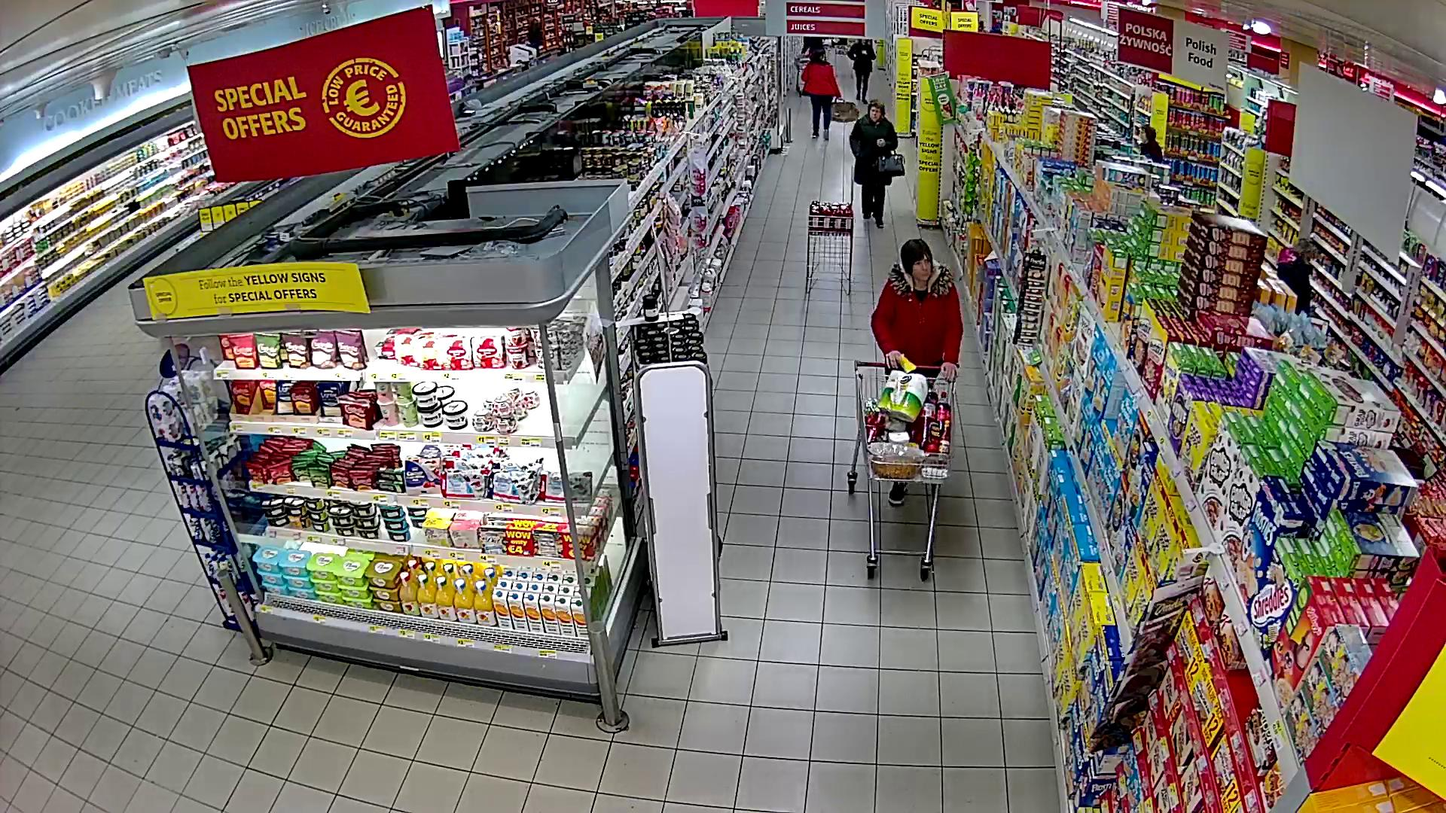backpack-or-handbag: (876, 148, 906, 178)
filled-trolly: (847, 357, 957, 579)
person: (870, 238, 965, 385), (850, 98, 899, 228)
person-with-backpack-handbag: (850, 98, 906, 228)
person-with-filled-basket-trolly: (847, 238, 964, 580)
